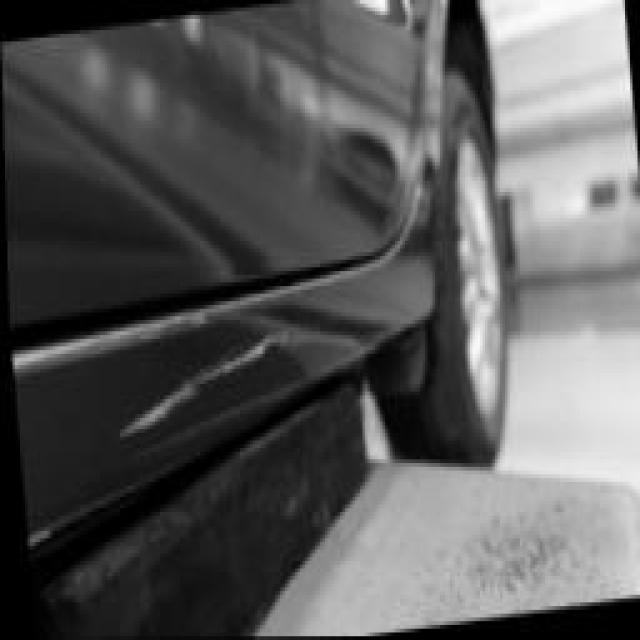Door: (75, 282, 322, 480)
